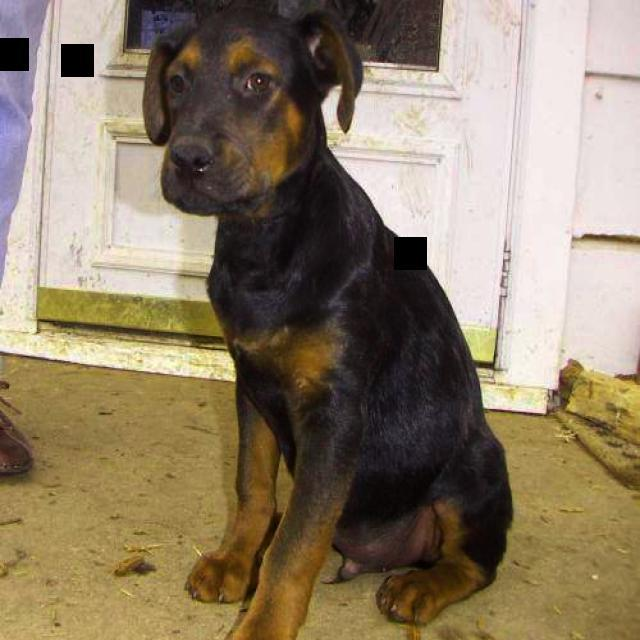puppy-dog: (140, 1, 514, 640)
